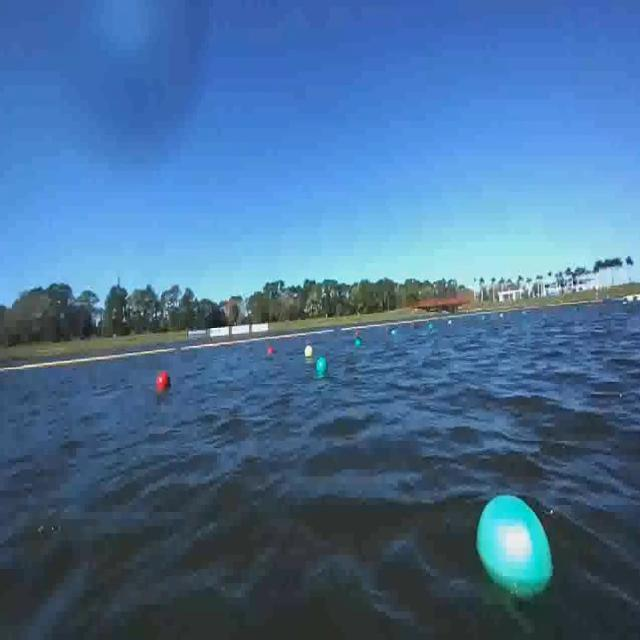green-buoy: (475, 488, 555, 599), (315, 356, 328, 374)
red-buoy: (156, 370, 170, 391)
yellow-buoy: (305, 345, 314, 358)
